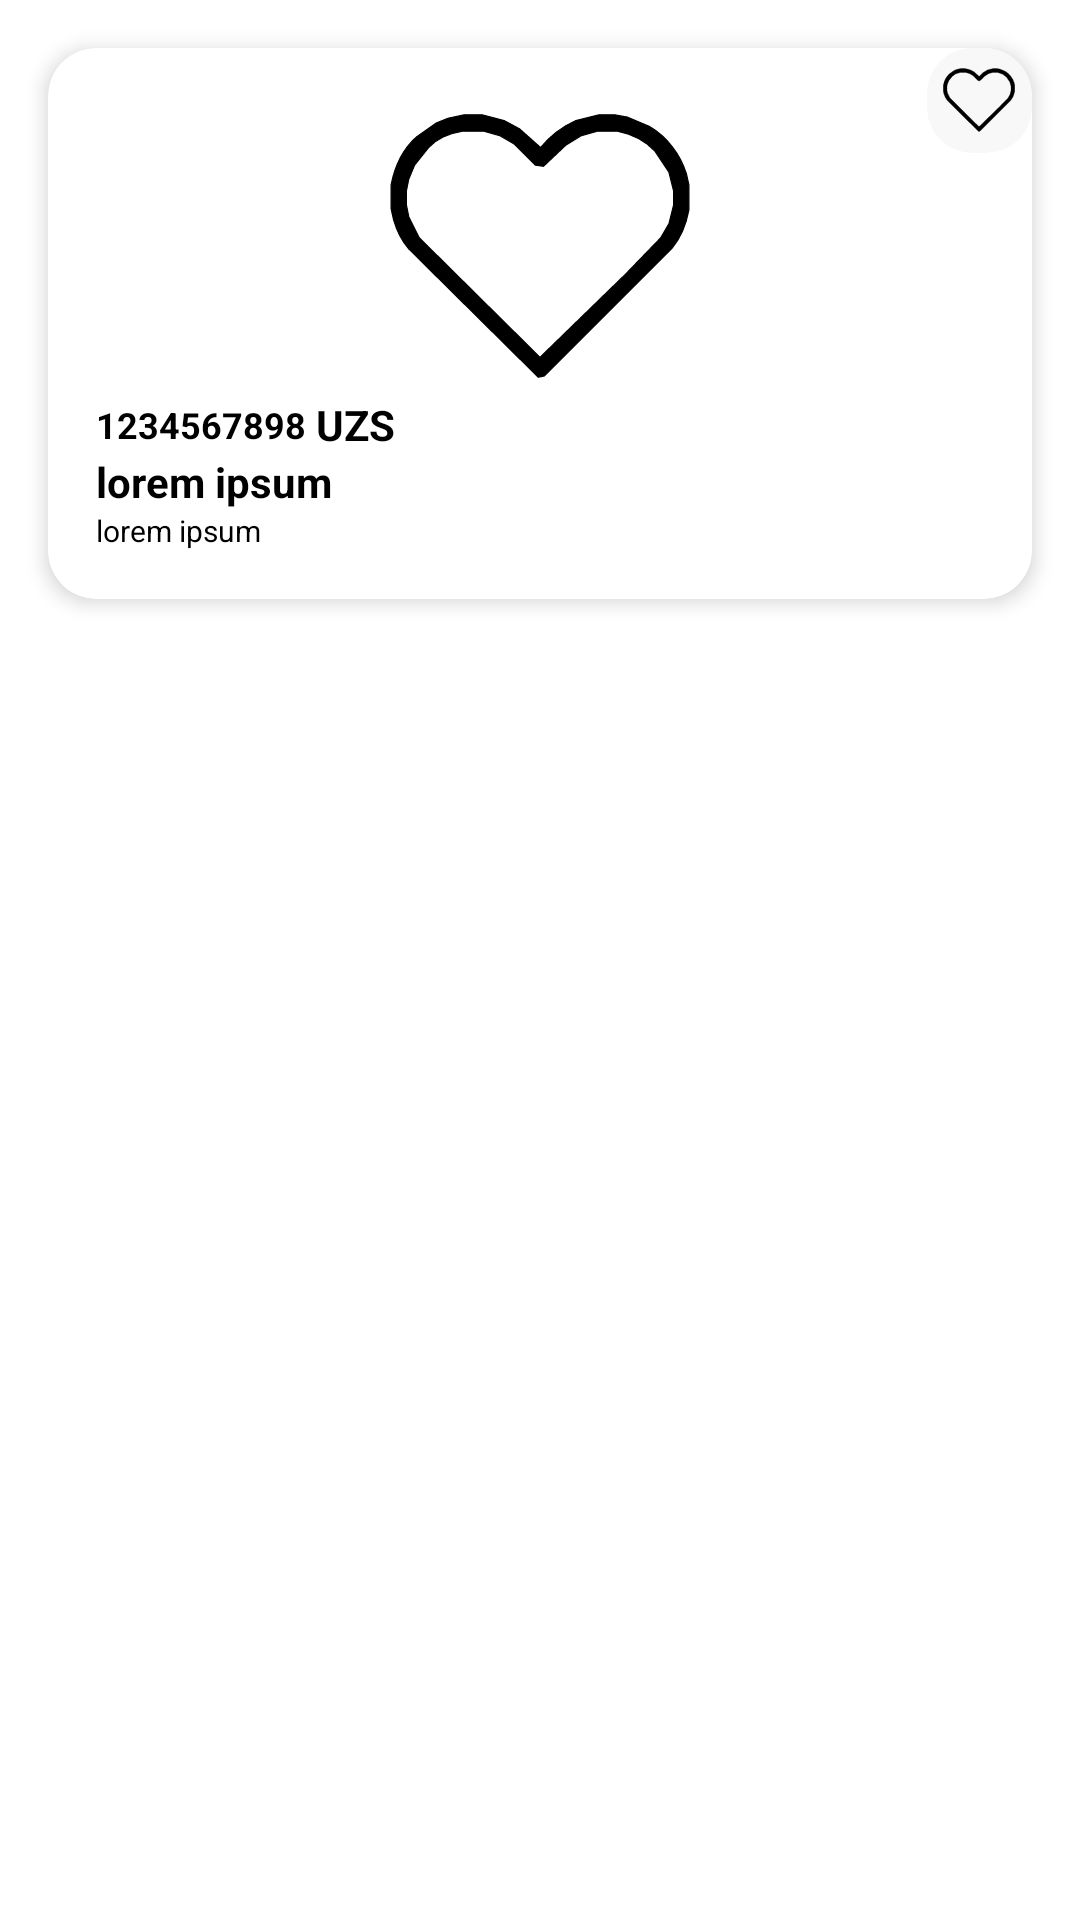

Screen size 1080w x 1920h. Icon name, then its center in pixels as point (x, y):
favorite: point (979, 100), point (540, 246)
